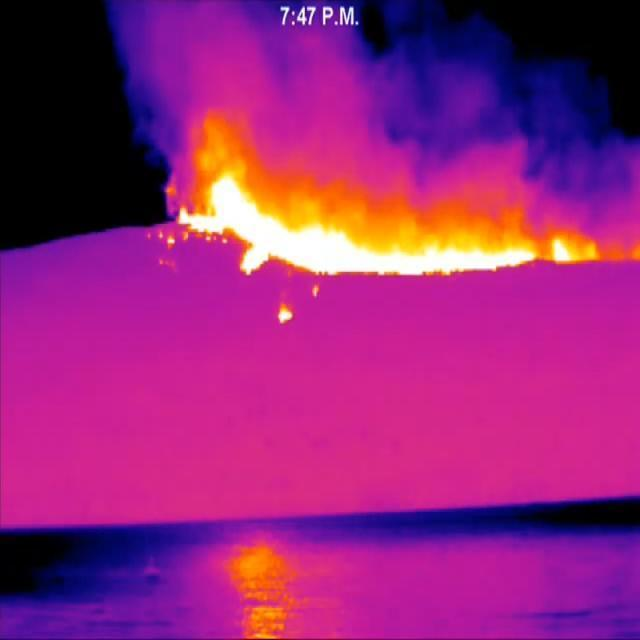fire: (155, 162, 619, 329)
